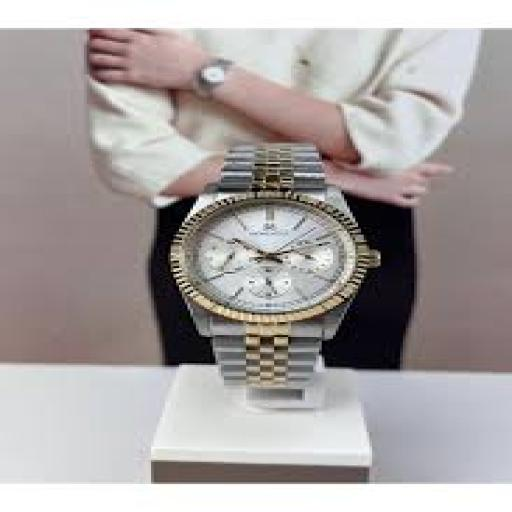KolSaati: (162, 118, 398, 428)
